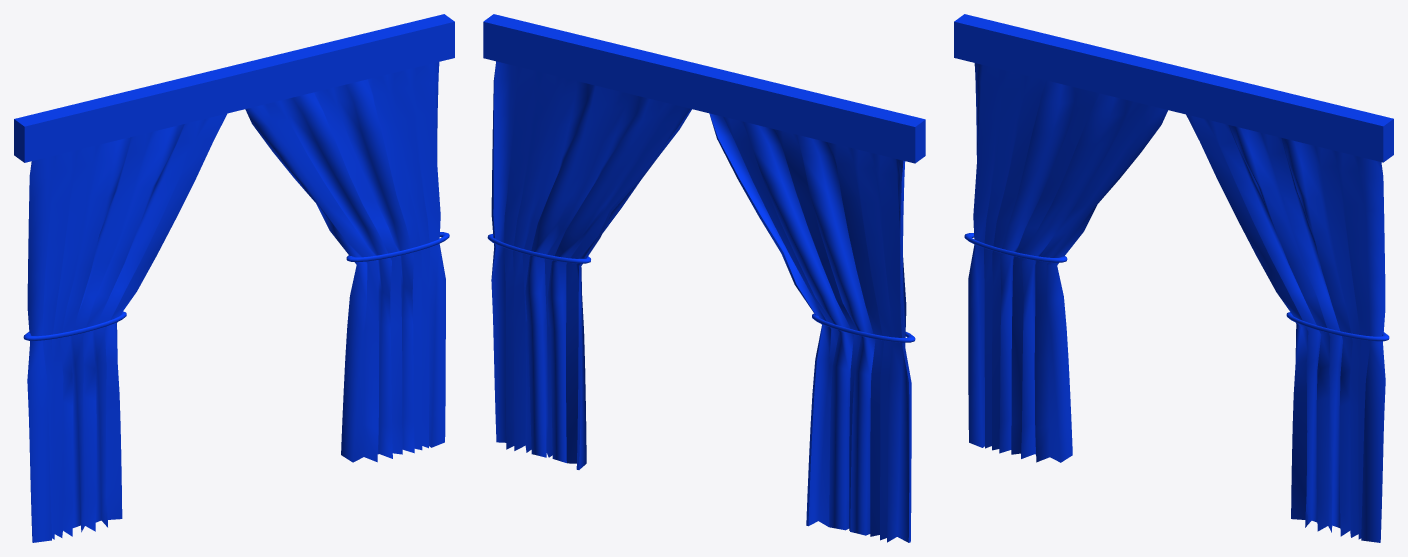
File: Curtain.FBX
3 renders of one model, left to right at view 1: azimuth 30°, elevation 25°; view 2: azimuth 150°, elevation 25°; view 3: azimuth 330°, elevation 25°, orthographic.
Visible parts, largest first — view 1: Curtain; view 2: Curtain; view 3: Curtain.
Part boxes in pixels (left/top/right/bottom): Curtain: left=14, top=14, right=454, bottom=542; Curtain: left=483, top=14, right=925, bottom=542; Curtain: left=954, top=14, right=1393, bottom=542.
Bounding box in the file's own units: 334 × 313 × 22.18.
